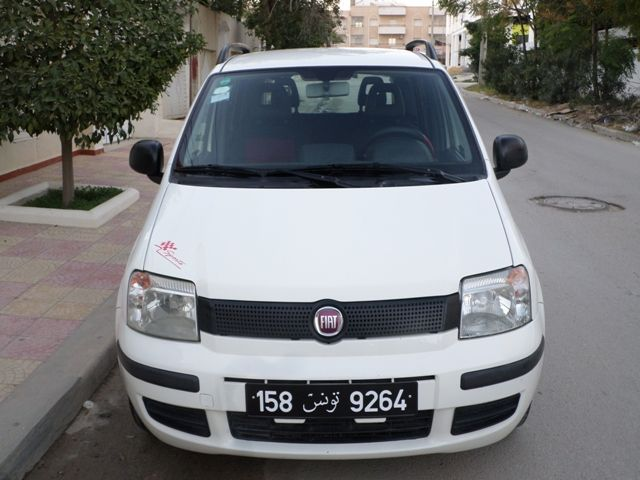LP: (243, 380, 421, 417)
